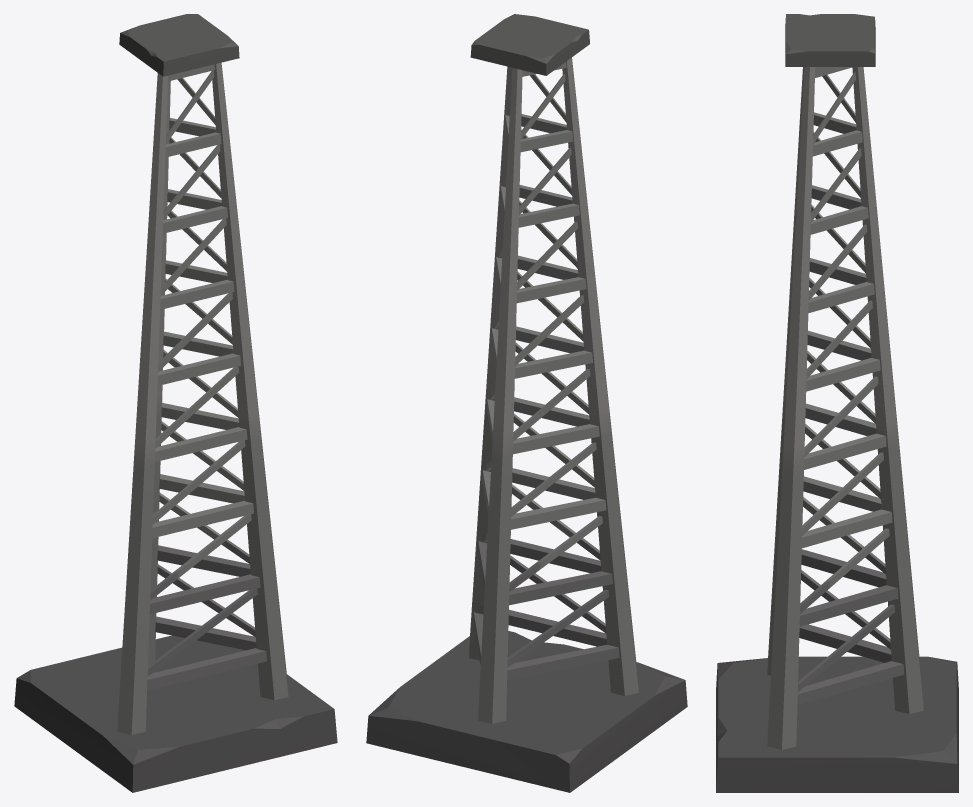
Rendered from SM_Bld_RadioTower_01.obj.
3 renders of one model, left to right at view 1: azimuth 30°, elevation 25°; view 2: azimuth 150°, elevation 25°; view 3: azimuth 270°, elevation 25°, orthographic. The views are drawn at different scales.
Parts seen in each view (by area): view 1: SM_Bld_RadioTower_01_0; view 2: SM_Bld_RadioTower_01_0; view 3: SM_Bld_RadioTower_01_0.
Boxes of the visible parts, x1,y1,x2,y2 form: SM_Bld_RadioTower_01_0: [14, 14, 337, 792]; SM_Bld_RadioTower_01_0: [366, 14, 687, 792]; SM_Bld_RadioTower_01_0: [716, 14, 958, 792].
Bounding box in the file's own units: 2.11 × 6.8 × 2.11.
1 material, 1 textured.
